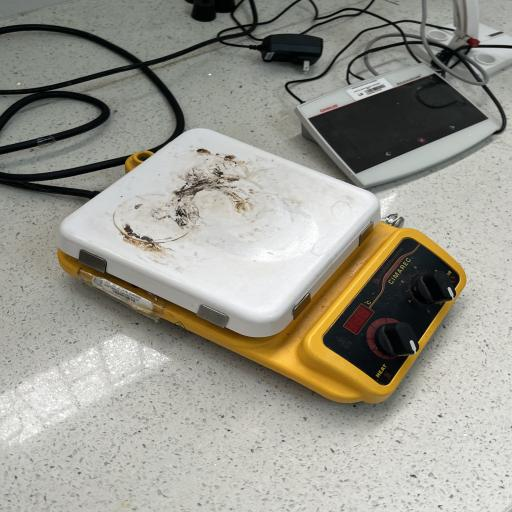Phmetro_Ohaus: (258, 61, 512, 185)
Plancha_Agitacion_Cimarec: (38, 126, 473, 423)
